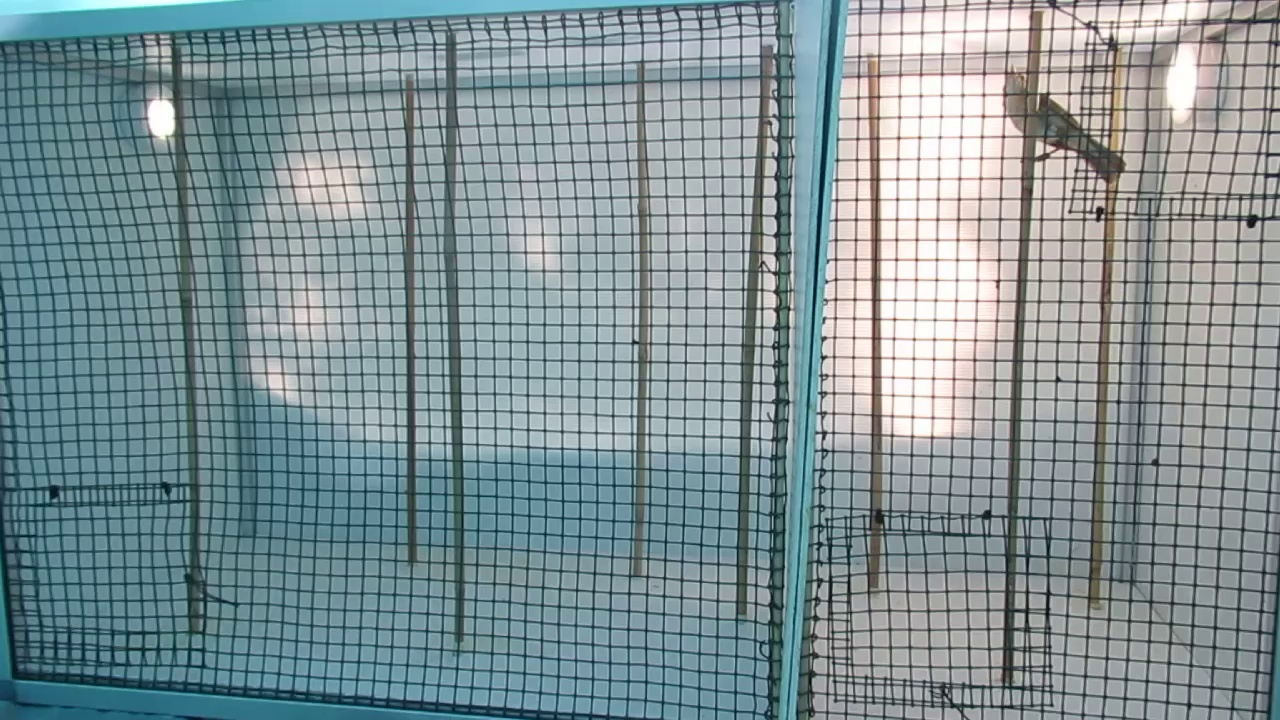bird: (1001, 63, 1124, 184)
stick: (1002, 13, 1044, 684), (733, 46, 777, 617), (1089, 45, 1129, 605), (168, 49, 204, 630), (440, 36, 468, 642), (866, 59, 888, 588), (634, 62, 655, 577), (401, 78, 421, 564)
